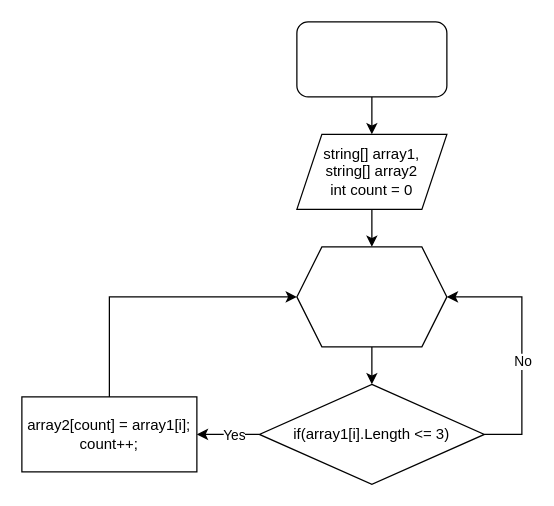
Some shapes in this 554 by 506 pixel diagram are drawn without their labels. Each missing label, with the centre of its shape:
"ArrayTwo" goes at (x=371, y=59).
"for (int i = 0; i < array1.Length; i++)" goes at (x=371, y=296).
